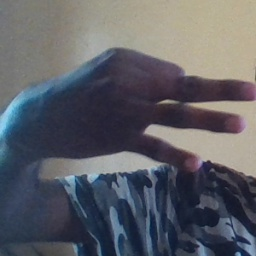K: (15, 44, 256, 175)
